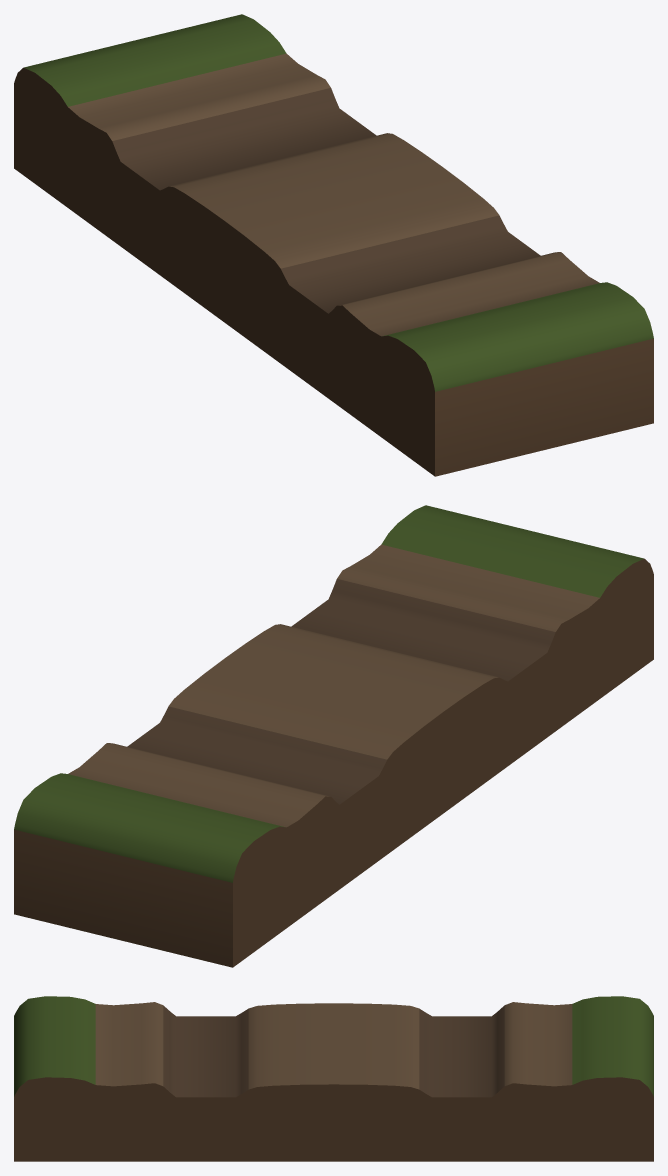
3 renders of one model, top to bottom at view 1: azimuth 30°, elevation 25°; view 2: azimuth 150°, elevation 25°; view 3: azimuth 270°, elevation 25°, orthographic. The views are drawn at different scales.
Visible parts, largest first — view 1: r1o; view 2: r1o; view 3: r1o.
Boxes of the visible parts, <box> form: r1o: <box>14,14,653,476</box>; r1o: <box>14,505,653,967</box>; r1o: <box>14,996,653,1161</box>.
Size of the model in its own units: 2.7 by 1.31 by 9.
